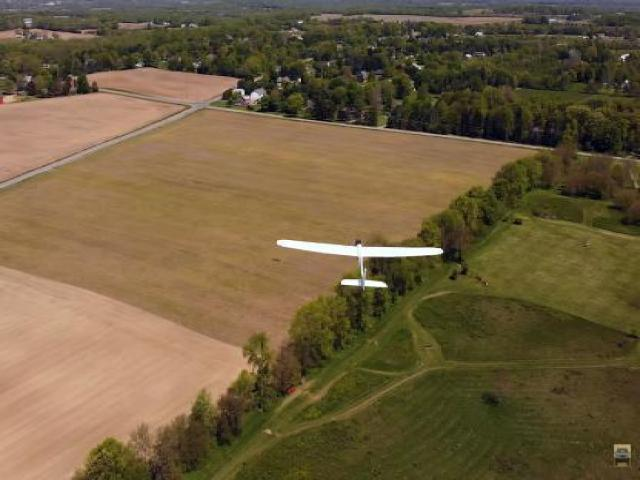uav: (268, 224, 448, 296)
